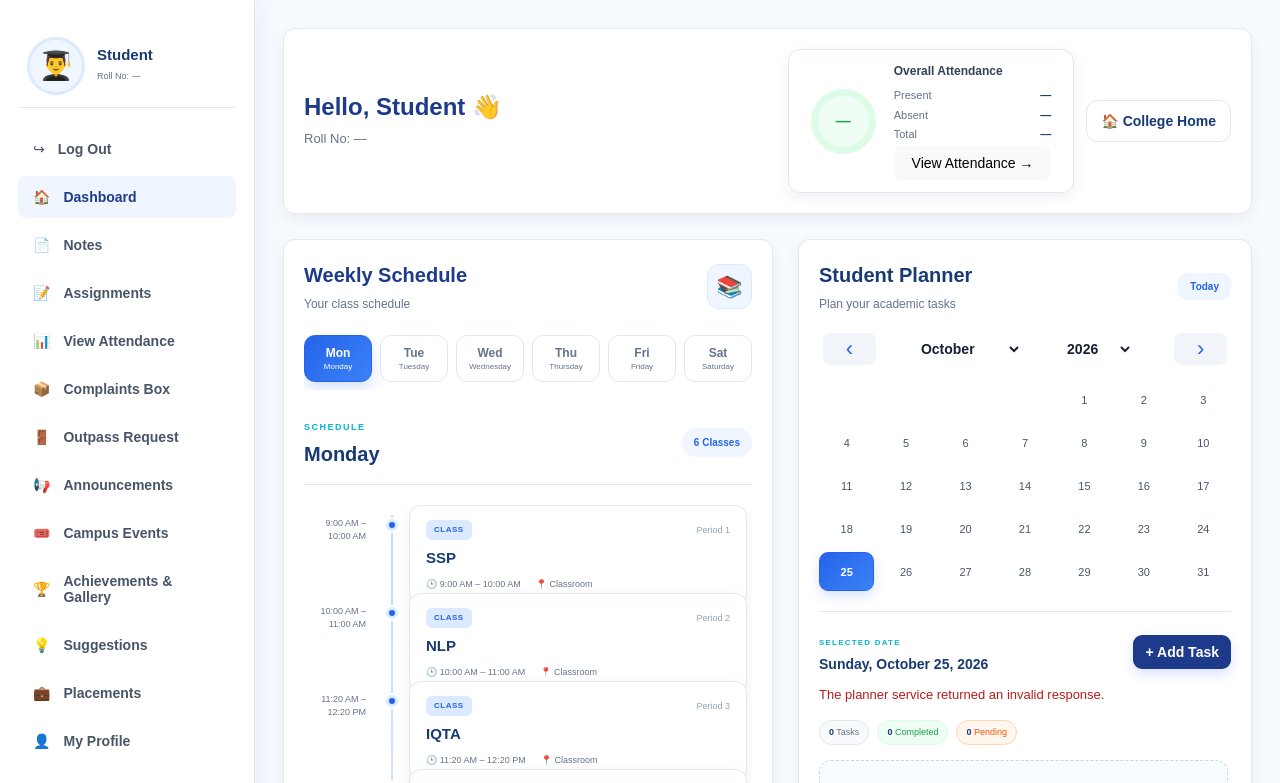
Scenario: role-aware announcement flows › renders the server-filtered announcements for a student
The image size is (1280, 783).
Step 1. Click the button "📢 Announcements" → [127, 485], box [18,464,236,506]
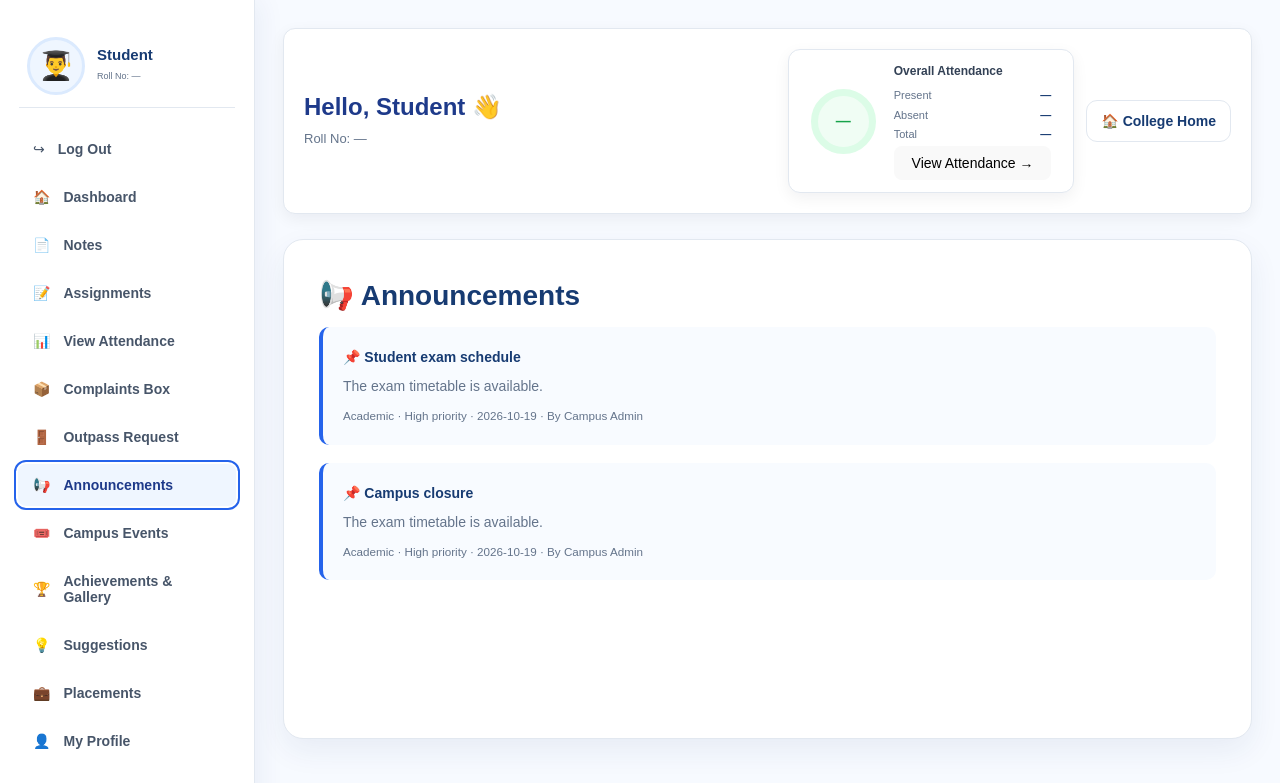
Result: the text "📌 Student exam schedule" is shown at [343,349,521,365]
Result: the text "The exam timetable is available." below "Student exam schedule" is shown at [343,378,543,394]
Result: the text "📌 Campus closure" is shown at [343,485,473,501]
